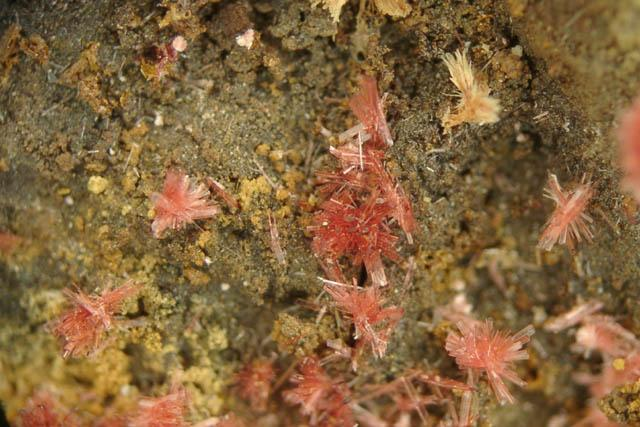erythrite: (283, 75, 536, 427), (542, 301, 640, 426), (51, 281, 142, 357), (150, 168, 220, 237), (443, 50, 502, 130), (539, 172, 594, 251), (101, 380, 190, 426), (235, 360, 282, 414)
